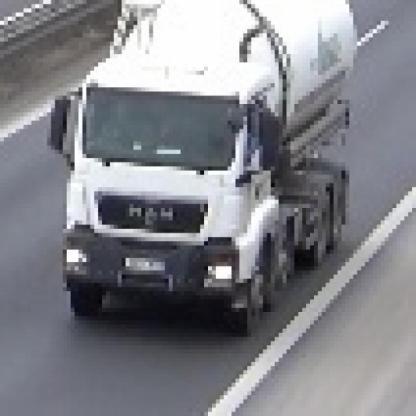truck: (52, 1, 350, 330)
